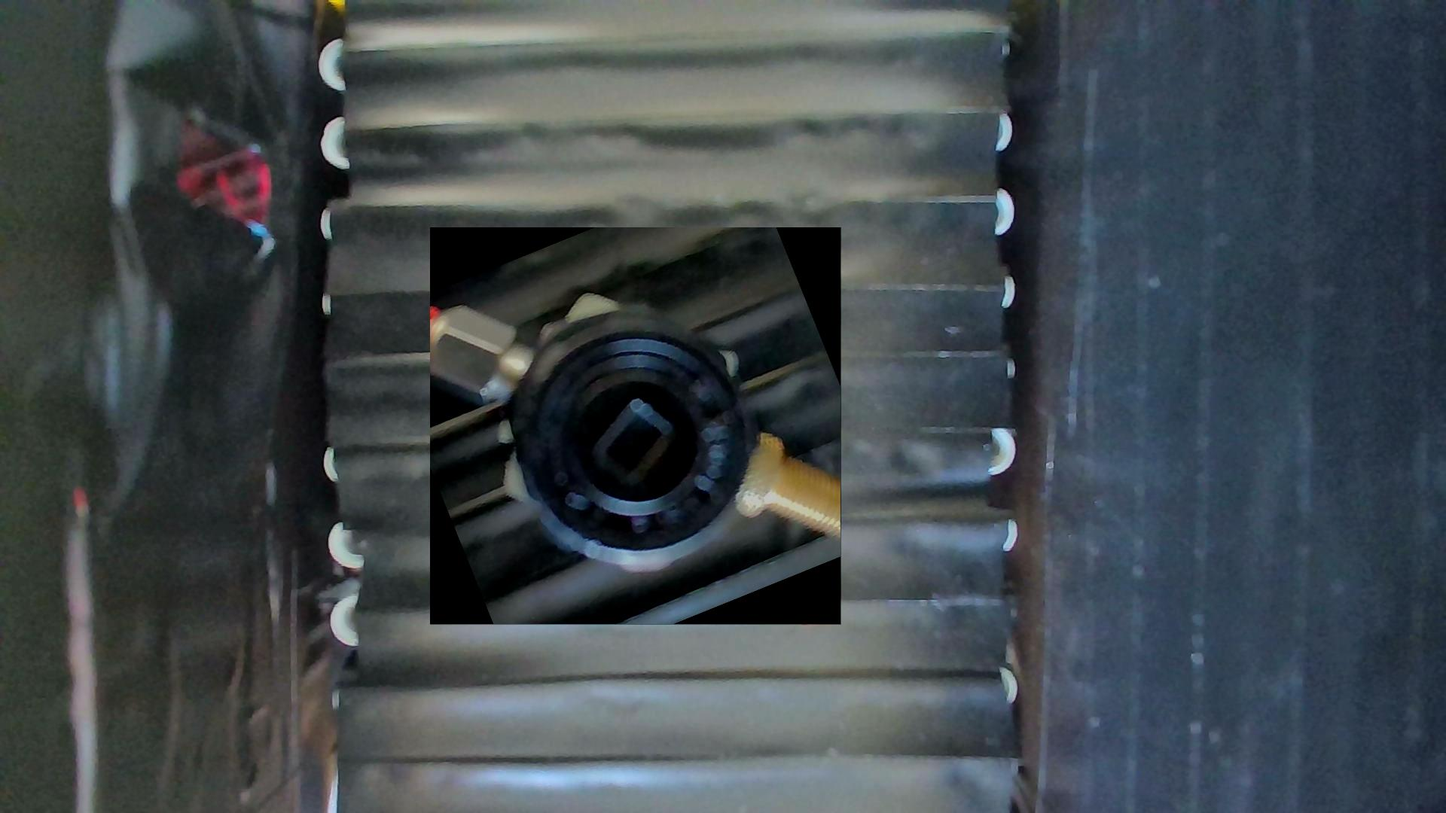regulator: (431, 228, 842, 625)
